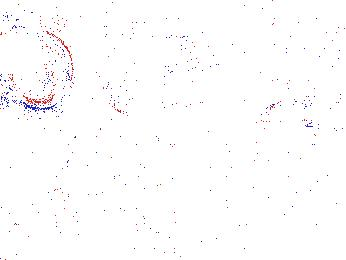moon jellyfish: (96, 35, 197, 122), (173, 68, 254, 152), (4, 30, 74, 110), (301, 38, 346, 129)
